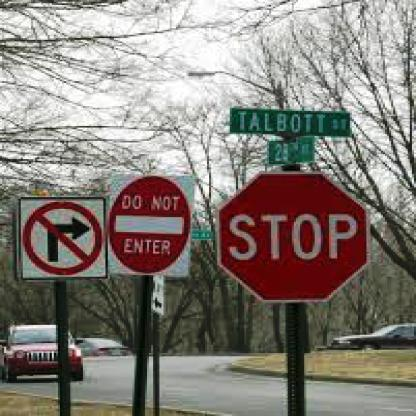No right turn: (20, 190, 108, 284)
